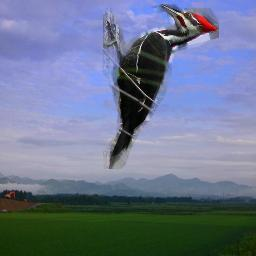Woodpecker: (103, 4, 219, 169)
